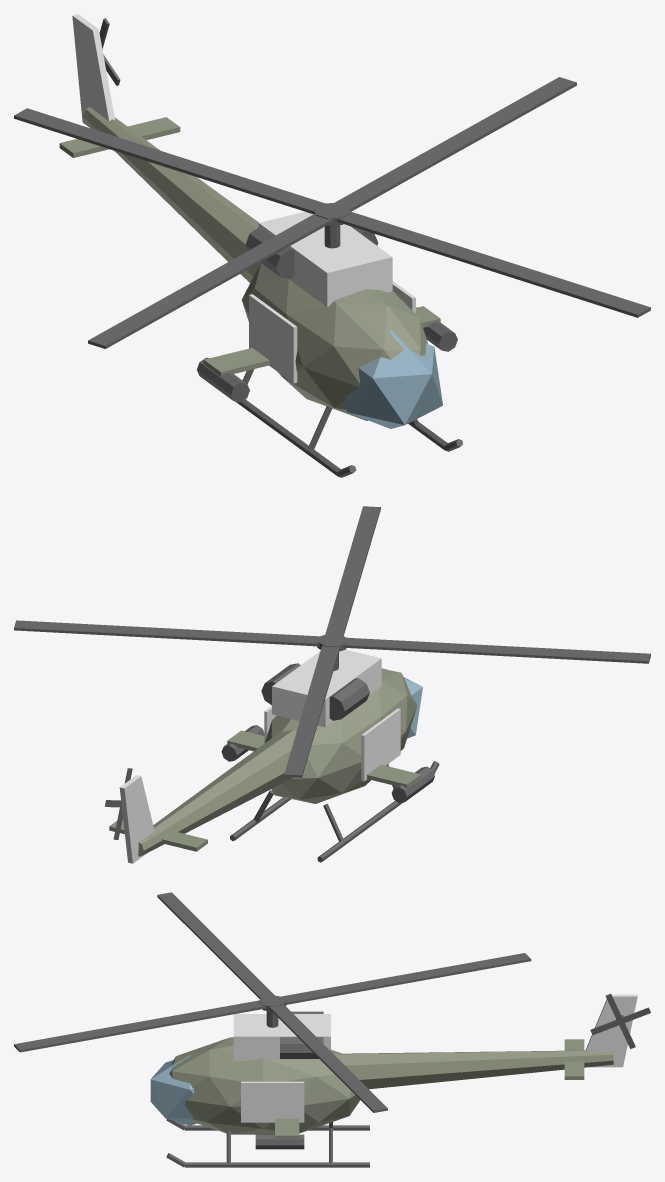
The model's file is civ_unit_helicopter.glb.
The picture shows the model from 3 angles, top to bottom: view 1: azimuth 30°, elevation 25°; view 2: azimuth 150°, elevation 25°; view 3: azimuth 270°, elevation 25°; orthographic projection. The views are drawn at different scales.
Visible parts, largest first — view 1: civ_unit_helicopter; view 2: civ_unit_helicopter; view 3: civ_unit_helicopter.
Part boxes in pixels (x1,y1,x2,y2): civ_unit_helicopter: (14, 14, 650, 477); civ_unit_helicopter: (14, 506, 650, 863); civ_unit_helicopter: (14, 892, 650, 1167).
Size of the model in its own units: 10.62 by 3.6 by 13.08.
